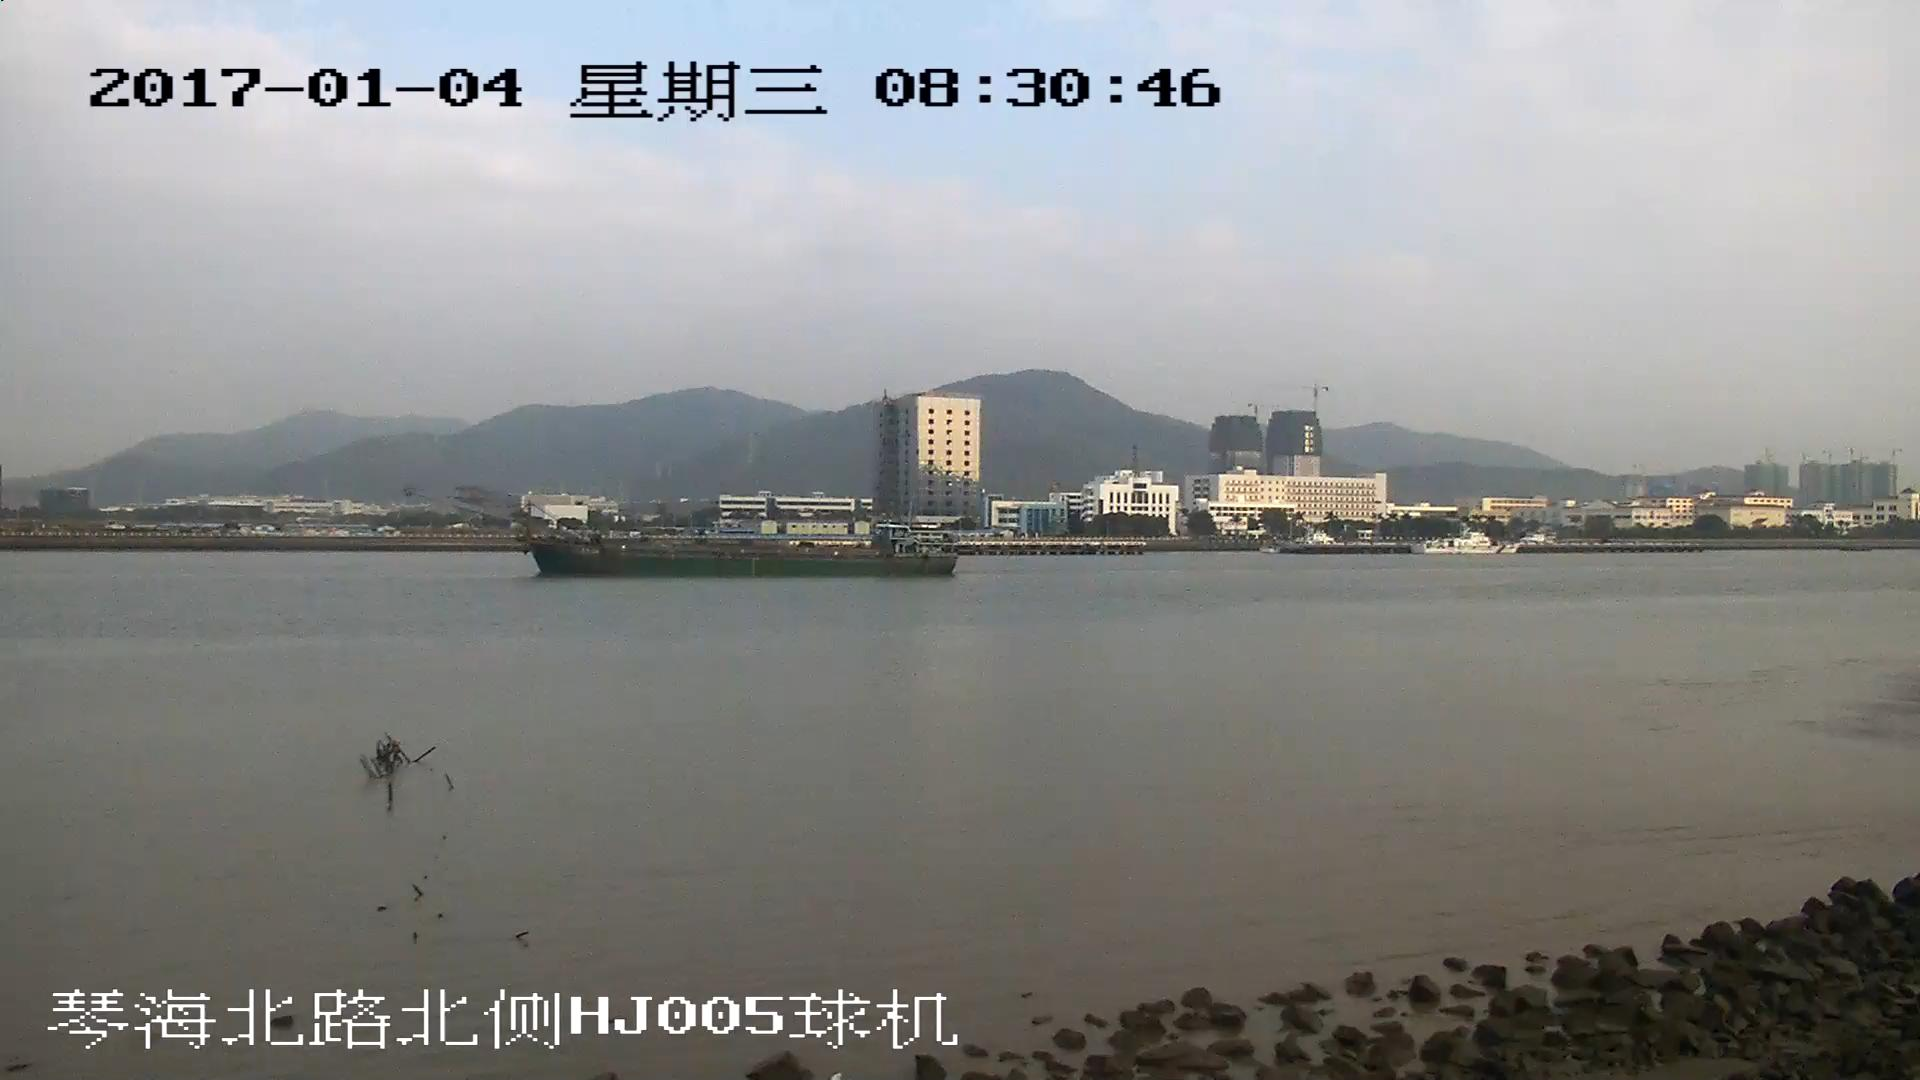bulk cargo carrier: (406, 490, 952, 572)
